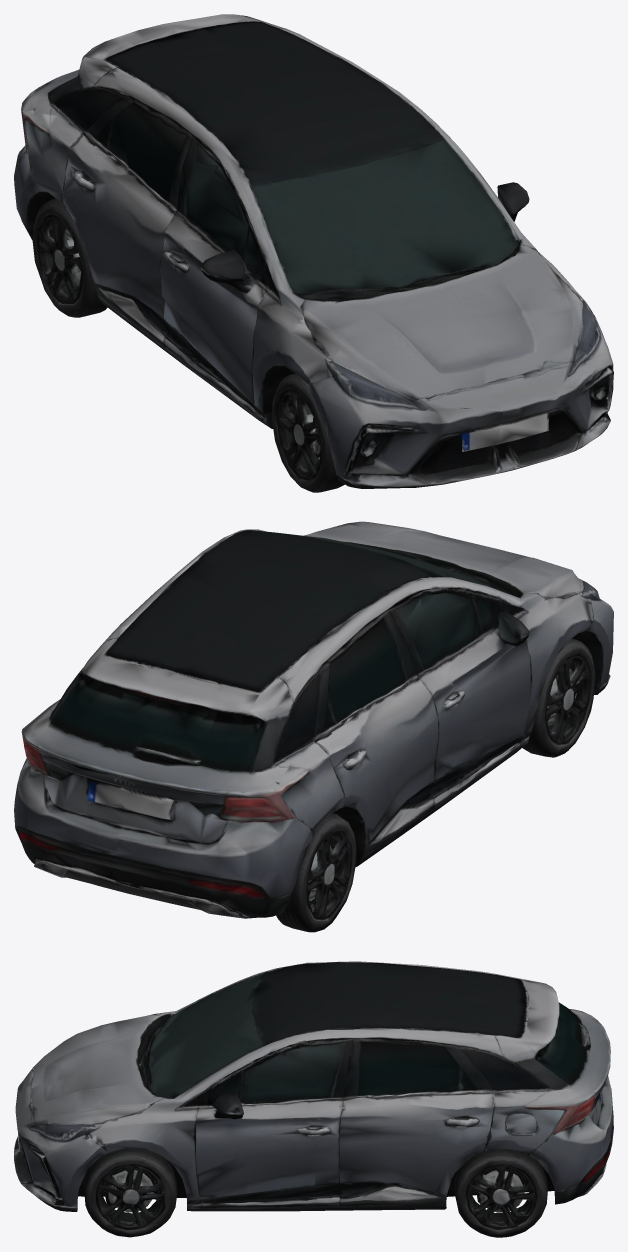
The model's file is car_sedan.glb.
The picture shows the model from 3 angles, top to bottom: view 1: azimuth 30°, elevation 25°; view 2: azimuth 150°, elevation 25°; view 3: azimuth 270°, elevation 25°; orthographic projection. The views are drawn at different scales.
Visible parts, largest first — view 1: tripo_node_d8eab706-6e00-4dd5-990c-505bb09c3191; view 2: tripo_node_d8eab706-6e00-4dd5-990c-505bb09c3191; view 3: tripo_node_d8eab706-6e00-4dd5-990c-505bb09c3191.
Boxes of the visible parts, bbox=[...] form: tripo_node_d8eab706-6e00-4dd5-990c-505bb09c3191: bbox=[14, 14, 613, 492]; tripo_node_d8eab706-6e00-4dd5-990c-505bb09c3191: bbox=[14, 521, 613, 932]; tripo_node_d8eab706-6e00-4dd5-990c-505bb09c3191: bbox=[14, 961, 613, 1237].
Bounding box in the file's own units: 1.98 × 1.5 × 4.12.
Materials: 1 (1 with a texture image).
